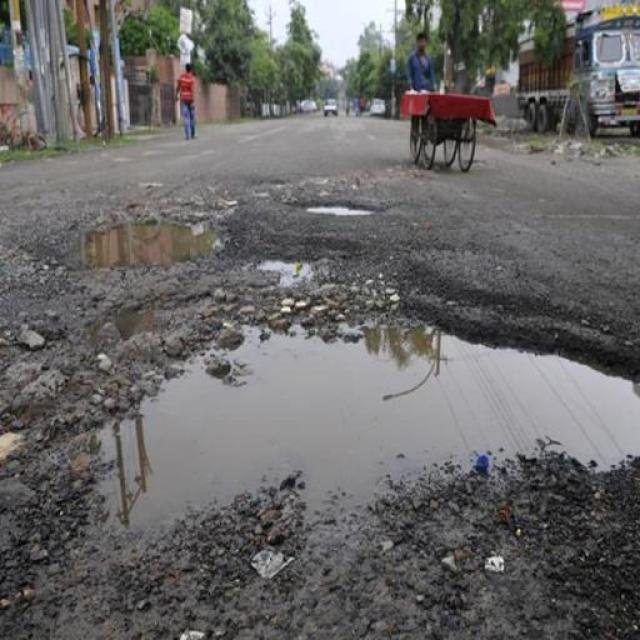puddle: (193, 325, 633, 481), (99, 217, 215, 272)
